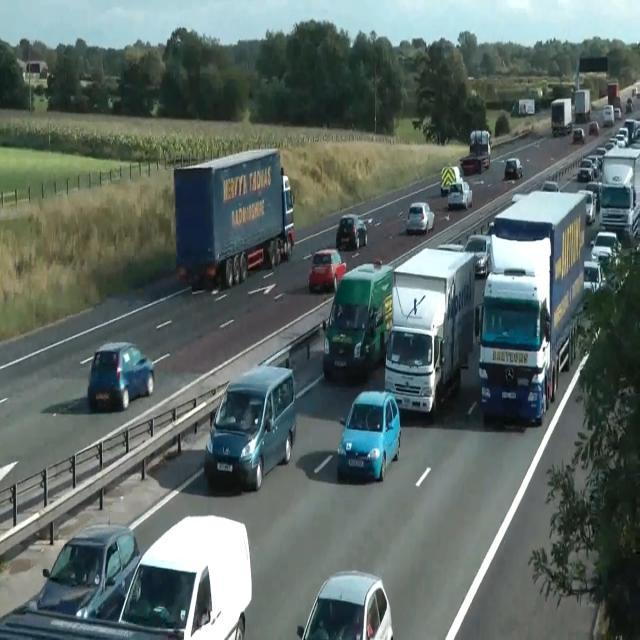bus: (296, 570, 394, 639), (337, 389, 401, 482), (87, 341, 155, 412), (308, 248, 347, 293), (464, 234, 492, 277), (335, 213, 367, 250), (590, 230, 622, 266), (406, 202, 434, 234), (448, 180, 472, 210), (583, 260, 603, 294), (578, 189, 596, 224), (505, 158, 523, 180), (460, 156, 482, 174), (577, 159, 595, 181), (624, 118, 640, 139), (616, 127, 630, 146), (541, 180, 559, 192), (572, 127, 584, 143), (589, 121, 599, 135), (512, 193, 524, 203), (626, 98, 634, 112), (614, 107, 622, 120)
car: (0, 513, 252, 639), (476, 268, 550, 426)
jeep: (15, 522, 141, 620), (204, 362, 296, 492)
minibus: (476, 189, 586, 426), (173, 146, 295, 290), (384, 245, 476, 418), (322, 259, 394, 382), (599, 146, 639, 240), (469, 129, 491, 169), (550, 98, 572, 135), (572, 89, 590, 123), (606, 82, 622, 116), (510, 98, 534, 116), (603, 104, 615, 126)
